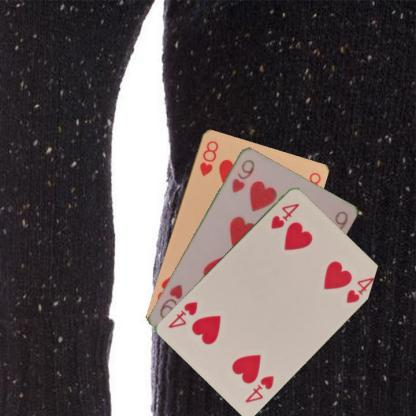4h: (242, 372, 275, 404), (268, 200, 301, 230)
8h: (196, 138, 219, 178)
9h: (229, 156, 256, 194)
